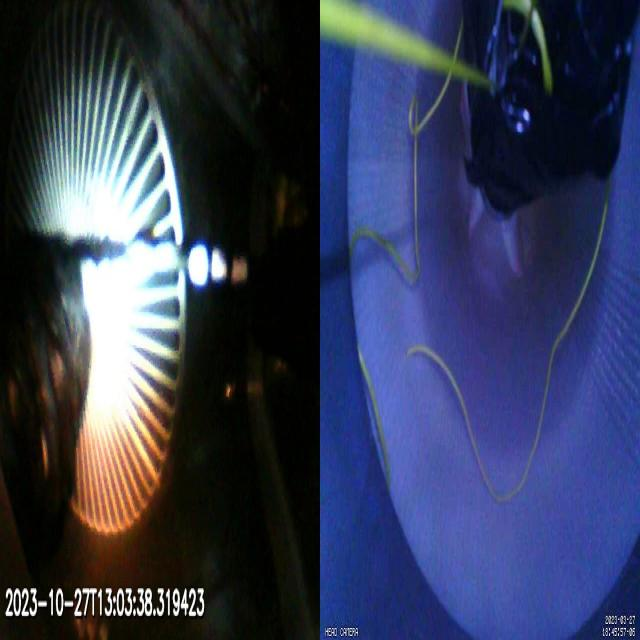white-dots: (189, 240, 249, 291)
